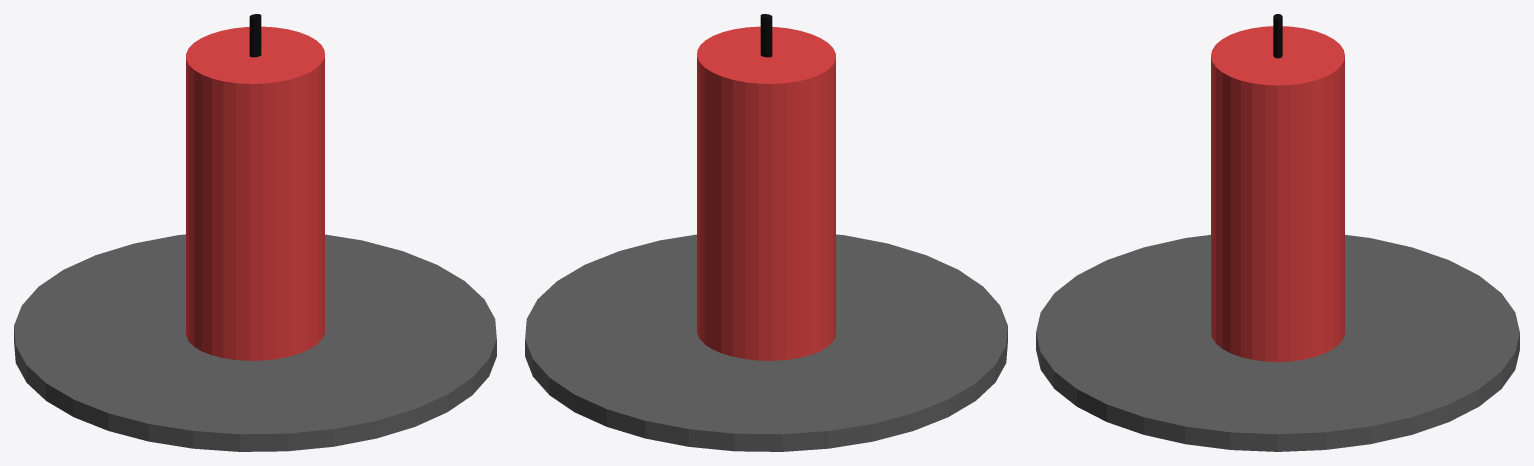
The model's file is Candle.fbx.
3 views of the same model, side by side, from view 1: azimuth 30°, elevation 25°; view 2: azimuth 150°, elevation 25°; view 3: azimuth 270°, elevation 25° (orthographic).
Visible parts, largest first — view 1: Cylinder, Cylinder.001, Cylinder.002; view 2: Cylinder, Cylinder.001, Cylinder.002; view 3: Cylinder, Cylinder.001.
Boxes of the visible parts, <box> form: Cylinder: <box>14,234,496,451</box>; Cylinder.001: <box>186,26,324,360</box>; Cylinder.002: <box>249,14,261,57</box>; Cylinder: <box>525,234,1007,451</box>; Cylinder.001: <box>697,26,835,360</box>; Cylinder.002: <box>760,14,772,57</box>; Cylinder: <box>1036,234,1519,451</box>; Cylinder.001: <box>1211,26,1344,361</box>.
Bounding box in the file's own units: 212 × 161 × 212.
